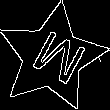M_SW: (20, 25, 84, 90)
